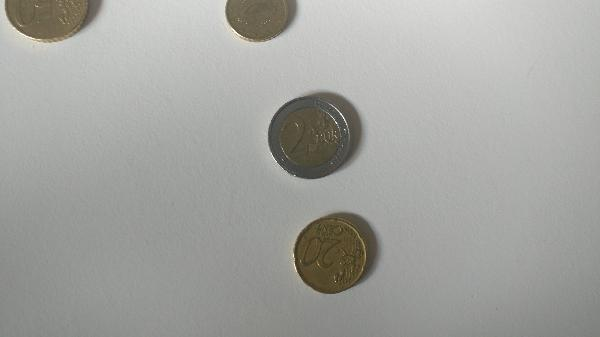Fifty Cent: (2, 1, 93, 44)
Ten Cent: (222, 1, 292, 42)
Twenty Cent: (292, 217, 369, 295)
Two Euro: (268, 95, 352, 182)
